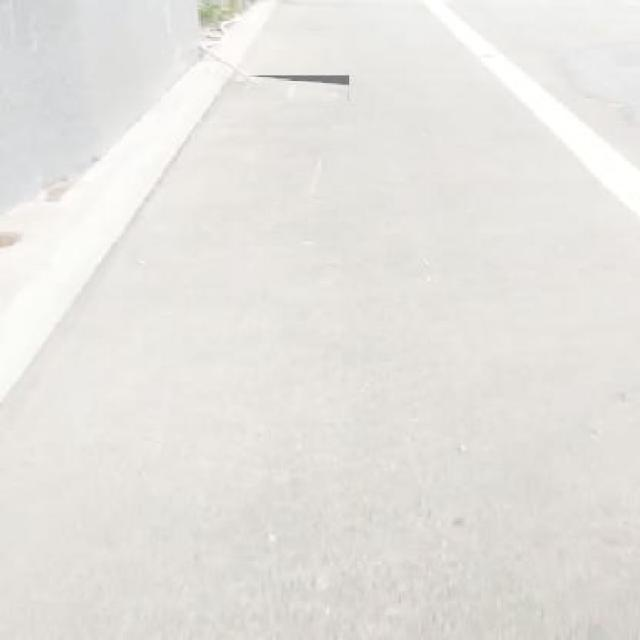Manhole: (243, 75, 349, 100)
